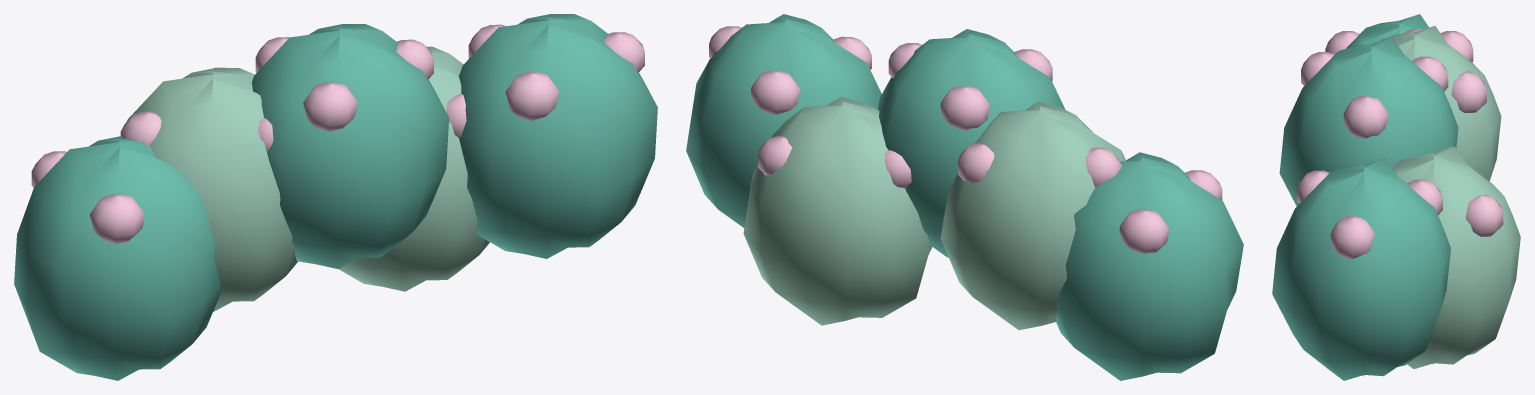
The model's file is bush_rosebell_hedge.glb.
The picture shows the model from 3 angles, left to right: view 1: azimuth 30°, elevation 25°; view 2: azimuth 150°, elevation 25°; view 3: azimuth 270°, elevation 25°; orthographic projection. The views are drawn at different scales.
Parts seen in each view (by area): view 1: BUSH_rosebell_hedge_leafmass_0, BUSH_rosebell_hedge_leafmass_4, BUSH_rosebell_hedge_leafmass_2, BUSH_rosebell_hedge_leafmass_1, BUSH_rosebell_hedge_leafmass_3, BUSH_rosebell_hedge_bloom_0_2, BUSH_rosebell_hedge_bloom_2_1, BUSH_rosebell_hedge_bloom_4_0, BUSH_rosebell_hedge_bloom_1_1, BUSH_rosebell_hedge_bloom_4_1, BUSH_rosebell_hedge_bloom_2_2, BUSH_rosebell_hedge_bloom_3_1 (+1 smaller); view 2: BUSH_rosebell_hedge_leafmass_3, BUSH_rosebell_hedge_leafmass_0, BUSH_rosebell_hedge_leafmass_1, BUSH_rosebell_hedge_leafmass_4, BUSH_rosebell_hedge_leafmass_2, BUSH_rosebell_hedge_bloom_0_1, BUSH_rosebell_hedge_bloom_2_0, BUSH_rosebell_hedge_bloom_4_2, BUSH_rosebell_hedge_bloom_1_0, BUSH_rosebell_hedge_bloom_1_1, BUSH_rosebell_hedge_bloom_3_2, BUSH_rosebell_hedge_bloom_3_0 (+5 smaller); view 3: BUSH_rosebell_hedge_leafmass_4, BUSH_rosebell_hedge_leafmass_2, BUSH_rosebell_hedge_leafmass_3, BUSH_rosebell_hedge_leafmass_1, BUSH_rosebell_hedge_bloom_2_2, BUSH_rosebell_hedge_bloom_4_1, BUSH_rosebell_hedge_bloom_3_2, BUSH_rosebell_hedge_bloom_1_0, BUSH_rosebell_hedge_leafmass_0, BUSH_rosebell_hedge_bloom_2_0, BUSH_rosebell_hedge_bloom_4_2, BUSH_rosebell_hedge_bloom_2_1 (+3 smaller).
Boxes of the visible parts, x1,y1,x2,y2 form: BUSH_rosebell_hedge_leafmass_0: [14, 136, 220, 380]; BUSH_rosebell_hedge_leafmass_4: [459, 14, 657, 258]; BUSH_rosebell_hedge_leafmass_2: [252, 24, 449, 268]; BUSH_rosebell_hedge_leafmass_1: [127, 68, 297, 311]; BUSH_rosebell_hedge_leafmass_3: [338, 46, 489, 291]; BUSH_rosebell_hedge_bloom_0_2: [90, 194, 143, 243]; BUSH_rosebell_hedge_bloom_2_1: [303, 82, 356, 131]; BUSH_rosebell_hedge_bloom_4_0: [505, 72, 558, 120]; BUSH_rosebell_hedge_bloom_1_1: [120, 111, 161, 145]; BUSH_rosebell_hedge_bloom_4_1: [604, 32, 644, 72]; BUSH_rosebell_hedge_bloom_2_2: [396, 39, 433, 79]; BUSH_rosebell_hedge_bloom_3_1: [446, 94, 466, 137]; BUSH_rosebell_hedge_leafmass_3: [743, 97, 931, 325]; BUSH_rosebell_hedge_leafmass_0: [1056, 152, 1243, 380]; BUSH_rosebell_hedge_leafmass_1: [940, 101, 1126, 330]; BUSH_rosebell_hedge_leafmass_4: [686, 14, 881, 227]; BUSH_rosebell_hedge_leafmass_2: [878, 29, 1065, 257]; BUSH_rosebell_hedge_bloom_0_1: [1119, 209, 1168, 253]; BUSH_rosebell_hedge_bloom_2_0: [940, 86, 989, 130]; BUSH_rosebell_hedge_bloom_4_2: [751, 71, 800, 114]; BUSH_rosebell_hedge_bloom_1_0: [958, 143, 994, 182]; BUSH_rosebell_hedge_bloom_1_1: [1085, 147, 1121, 186]; BUSH_rosebell_hedge_bloom_3_2: [758, 136, 792, 175]; BUSH_rosebell_hedge_bloom_3_0: [884, 150, 911, 188]; BUSH_rosebell_hedge_leafmass_4: [1272, 158, 1450, 380]; BUSH_rosebell_hedge_leafmass_2: [1279, 37, 1458, 206]; BUSH_rosebell_hedge_leafmass_3: [1392, 146, 1520, 368]; BUSH_rosebell_hedge_leafmass_1: [1379, 26, 1501, 181]; BUSH_rosebell_hedge_bloom_2_2: [1343, 96, 1388, 138]; BUSH_rosebell_hedge_bloom_4_1: [1330, 216, 1375, 259]; BUSH_rosebell_hedge_bloom_3_2: [1465, 194, 1503, 236]; BUSH_rosebell_hedge_bloom_1_0: [1451, 71, 1486, 112]; BUSH_rosebell_hedge_leafmass_0: [1346, 14, 1428, 48]; BUSH_rosebell_hedge_bloom_2_0: [1412, 56, 1448, 91]; BUSH_rosebell_hedge_bloom_4_2: [1407, 179, 1442, 214]; BUSH_rosebell_hedge_bloom_2_1: [1301, 52, 1334, 85].
Bounding box in the file's own units: 2.05 × 1.03 × 0.8346.
